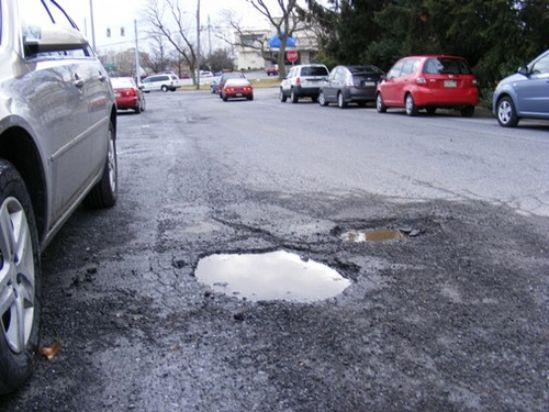pothole: (187, 244, 359, 309), (330, 216, 425, 247)
